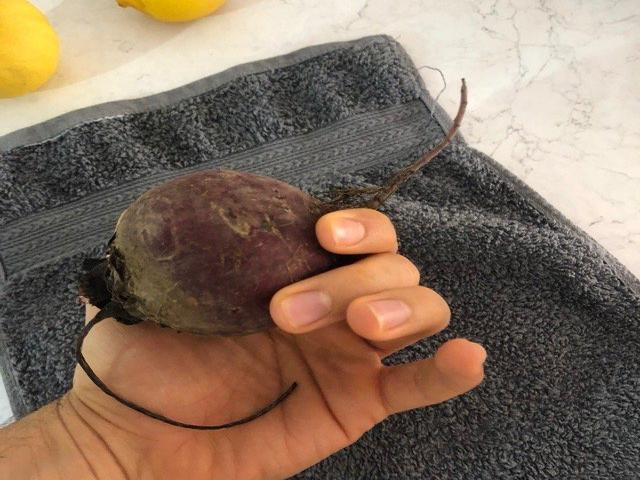beet: (79, 78, 466, 430)
